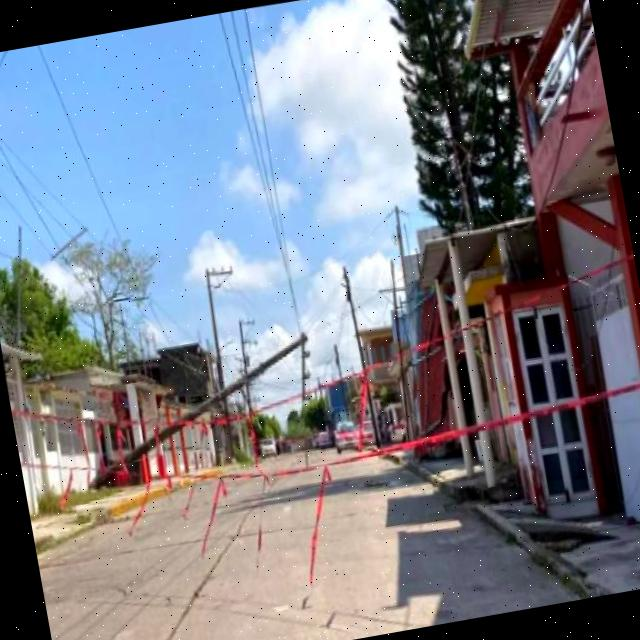Broken Pole: (88, 332, 307, 488)
